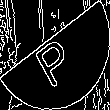P_NW: (30, 23, 80, 87)
